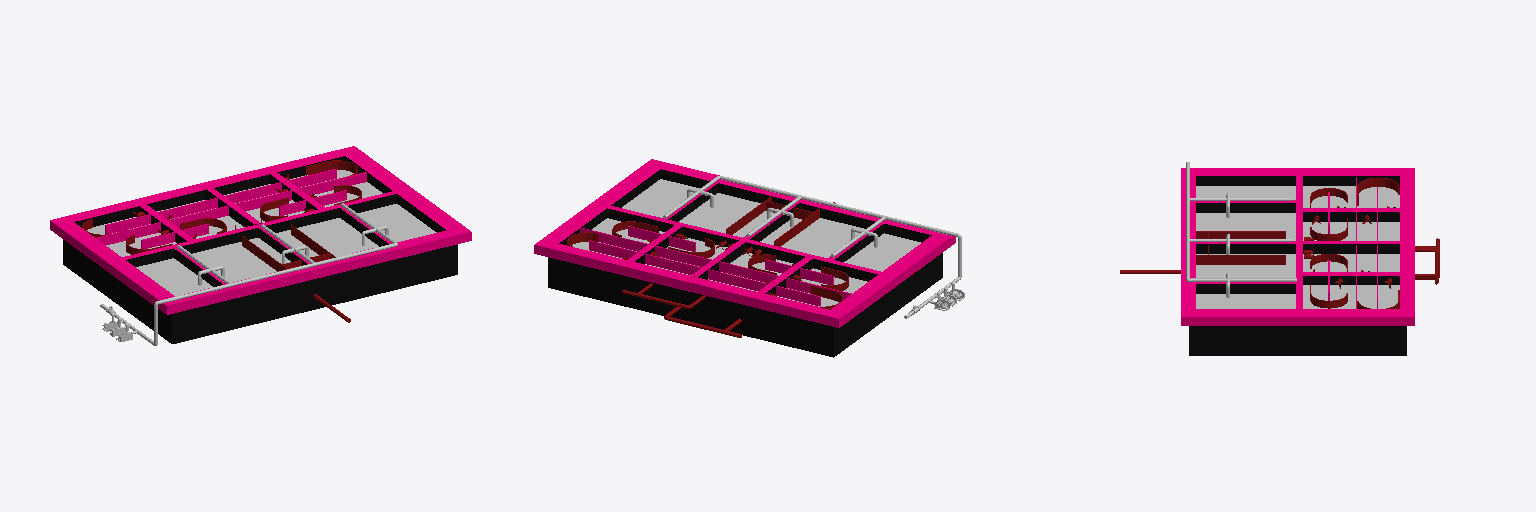
The model's file is biochemical_pool_phase_aao.obj.
3 renders of one model, left to right at view 1: azimuth 30°, elevation 25°; view 2: azimuth 150°, elevation 25°; view 3: azimuth 270°, elevation 25°, orthographic.
Bounding box in the file's own units: 8176 × 1114 × 6823.